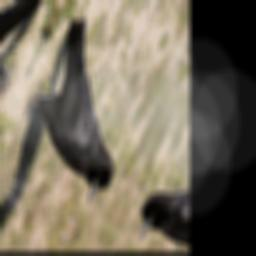Crow: (7, 8, 163, 212)
